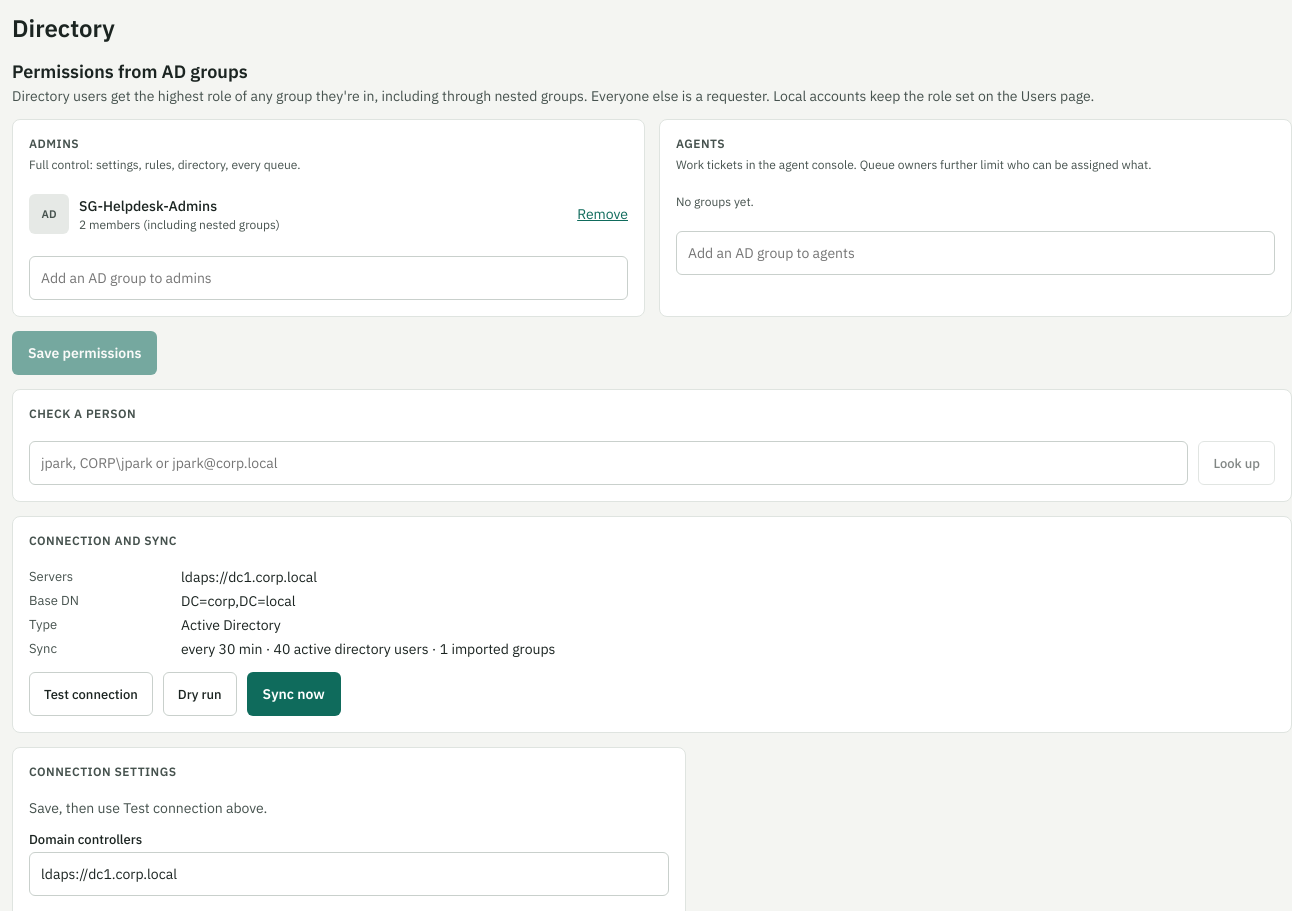
a mapping that would leave no admin can't be saved
This screenshot has width=1292, height=911.
Click the button with aria-label "Remove SG-Helpdesk-Admins from Admins".
click(603, 214)  # box [577,205,628,223]
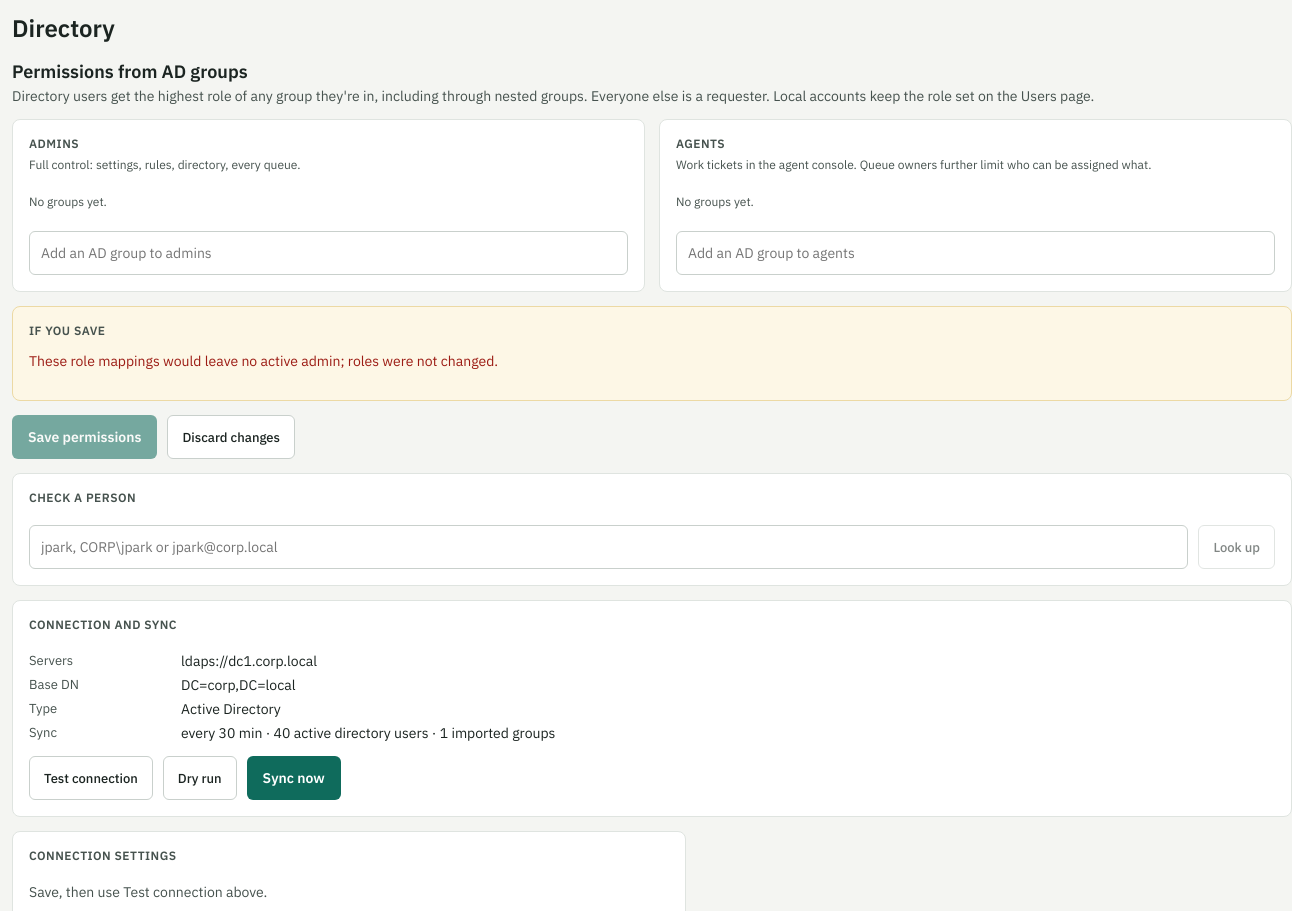
Check: the button "Save permissions" is disabled, box [12,415,157,459]
Check: the text "would leave no active admin" is shown, box [29,352,498,370]
